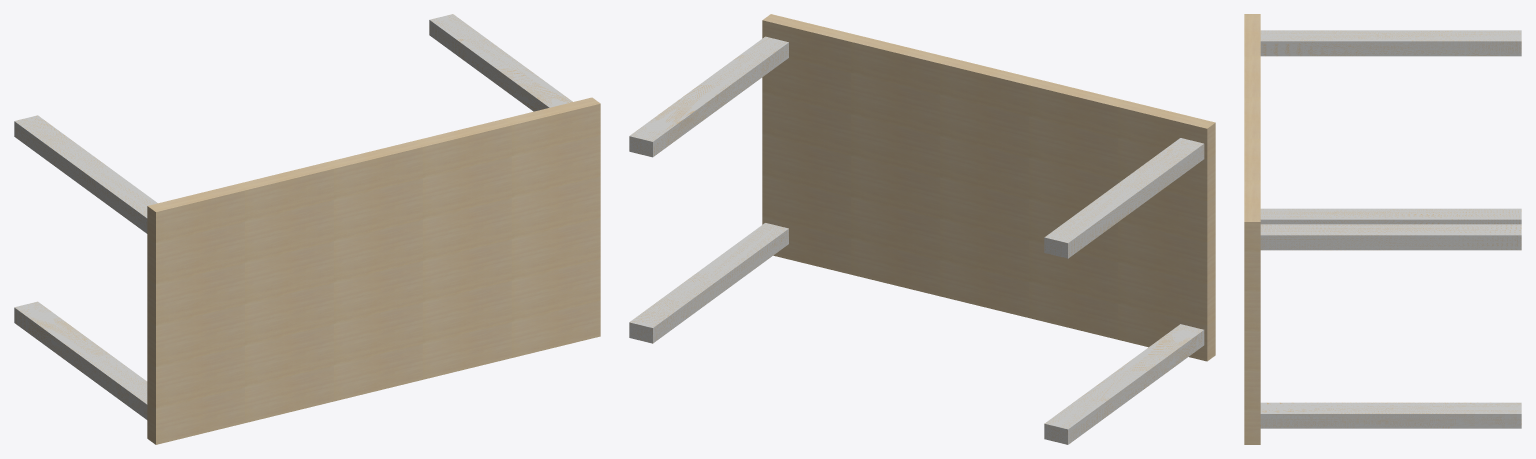
The model's file is table.dae.
3 views of the same model, side by side, from view 1: azimuth 30°, elevation 25°; view 2: azimuth 150°, elevation 25°; view 3: azimuth 270°, elevation 25° (orthographic). The views are drawn at different scales.
Visible parts, largest first — view 1: Component (×4); view 2: Component (×5); view 3: Component (×5).
Boxes of the visible parts, bbox=[...] form: Component (×4): bbox=[14, 14, 600, 444]; Component (×5): bbox=[629, 14, 1215, 444]; Component (×5): bbox=[1244, 14, 1521, 444].
Bounding box in the file's own units: 59.06 × 33.27 × 29.53.
2 materials, 2 textured.
